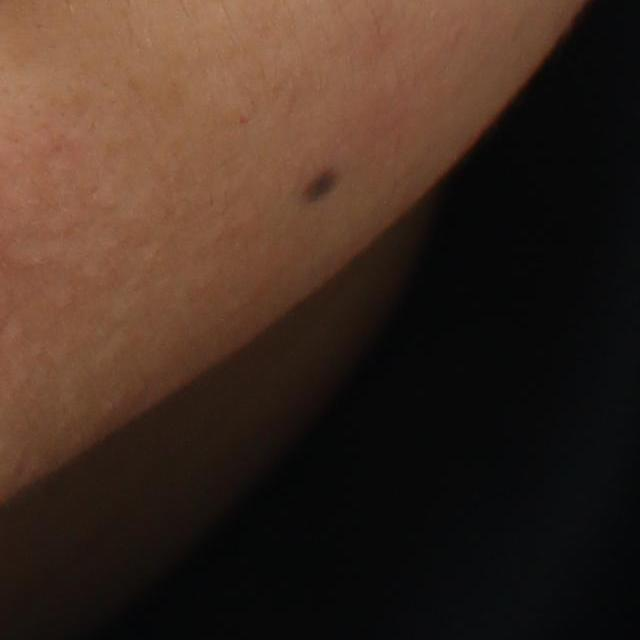nevus: (299, 166, 341, 203)
